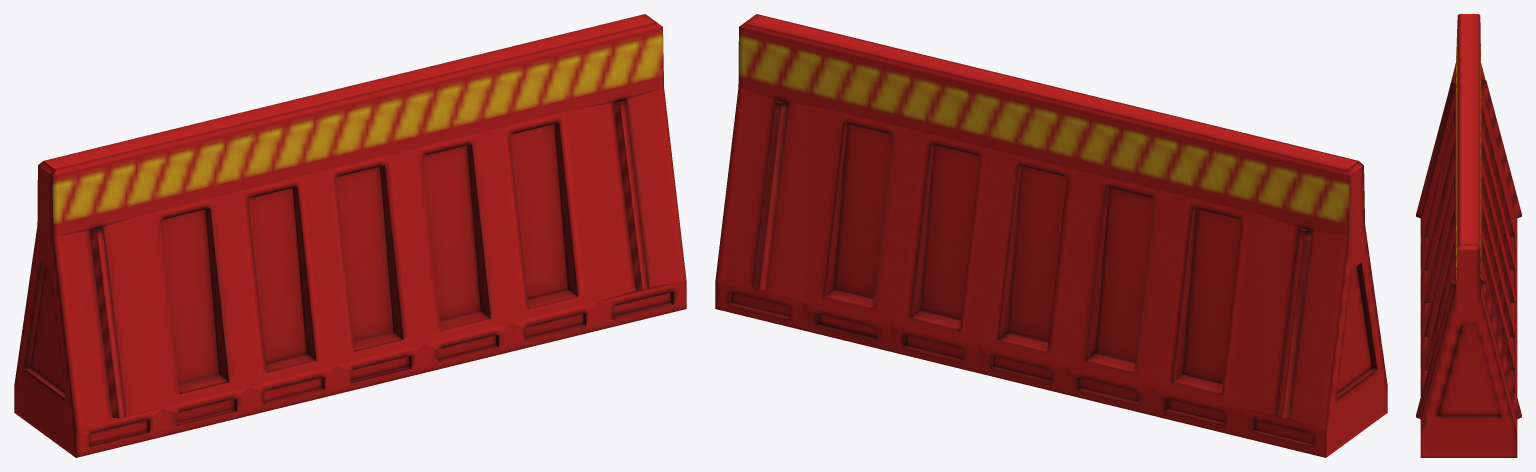
File: RoadBarrier_01.FBX
3 views of the same model, side by side, from view 1: azimuth 30°, elevation 25°; view 2: azimuth 150°, elevation 25°; view 3: azimuth 270°, elevation 25° (orthographic). The views are drawn at different scales.
Visible parts, largest first — view 1: RoadBarrier; view 2: RoadBarrier; view 3: RoadBarrier.
Part boxes in pixels (box(x1,y1,x2,y2)): RoadBarrier: box(14, 14, 686, 457); RoadBarrier: box(715, 14, 1387, 457); RoadBarrier: box(1416, 14, 1521, 457).
Size of the model in its own units: 2.18 by 0.9165 by 0.4163.
